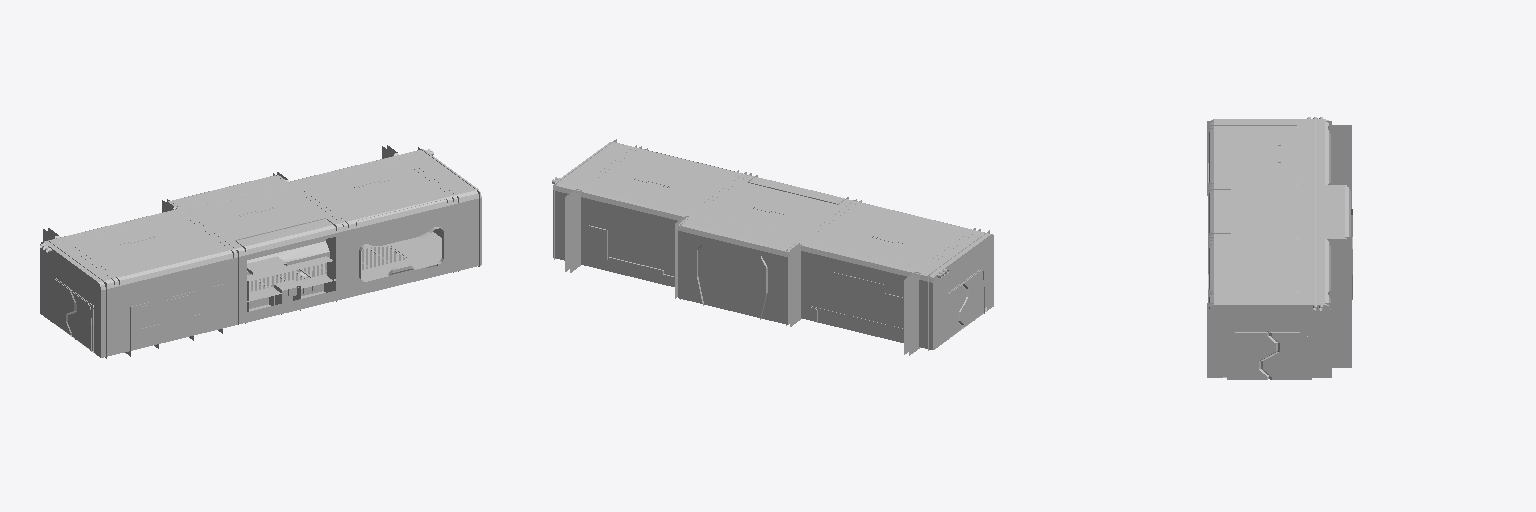
Rendered from background model v3.obj.
3 views of the same model, side by side, from view 1: azimuth 30°, elevation 25°; view 2: azimuth 150°, elevation 25°; view 3: azimuth 270°, elevation 25° (orthographic).
Visible parts, largest first — view 1: pCube2, polySurface143, pCube13, pCube95, pCube98, pCube99, pCube94; view 2: pCube2, polySurface90, polySurface88, pCube98, polySurface87, pCube99; view 3: pCube2, pCube96, pCube36, polySurface90, polySurface88, polySurface89.
Part boxes in pixels (left/top/right/bottom): pCube2: left=40, top=149, right=481, bottom=357; polySurface143: left=235, top=218, right=336, bottom=323; pCube13: left=356, top=199, right=447, bottom=284; pCube95: left=299, top=246, right=407, bottom=277; pCube98: left=68, top=290, right=93, bottom=350; pCube99: left=55, top=278, right=76, bottom=334; pCube94: left=249, top=270, right=306, bottom=292; pCube2: left=553, top=142, right=993, bottom=349; polySurface90: left=565, top=145, right=641, bottom=272; polySurface88: left=904, top=228, right=980, bottom=355; pCube98: left=958, top=267, right=984, bottom=327; polySurface87: left=786, top=199, right=861, bottom=326; pCube99: left=948, top=283, right=965, bottom=339; pCube2: left=1209, top=119, right=1350, bottom=377; pCube96: left=1227, top=331, right=1277, bottom=379; pCube36: left=1261, top=331, right=1311, bottom=379; polySurface90: left=1208, top=291, right=1351, bottom=367; polySurface88: left=1208, top=125, right=1351, bottom=182; polySurface89: left=1208, top=237, right=1351, bottom=290.
Bounding box in the file's own units: 105 × 23.24 × 34.33.